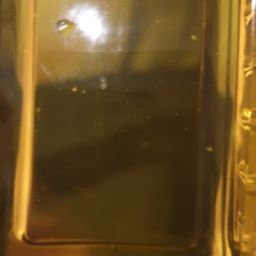Oil: (9, 8, 256, 256)
